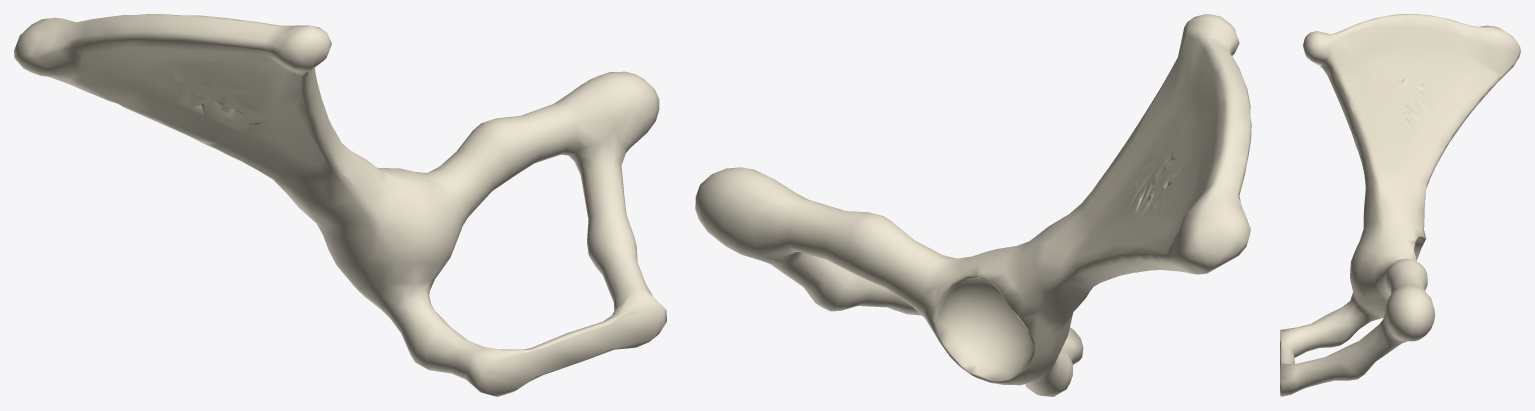
File: hip_r.glb
The picture shows the model from 3 angles, left to right: view 1: azimuth 30°, elevation 25°; view 2: azimuth 150°, elevation 25°; view 3: azimuth 270°, elevation 25°; orthographic projection. The views are drawn at different scales.
Visible parts, largest first — view 1: geometry_0; view 2: geometry_0; view 3: geometry_0.
Part boxes in pixels (<box>): geometry_0: <box>14,14,666,396</box>; geometry_0: <box>695,14,1251,396</box>; geometry_0: <box>1280,14,1520,396</box>.
Size of the model in its own units: 1.1 by 0.7085 by 0.5738.
